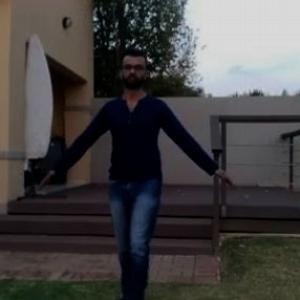land: (62, 59, 238, 299)
